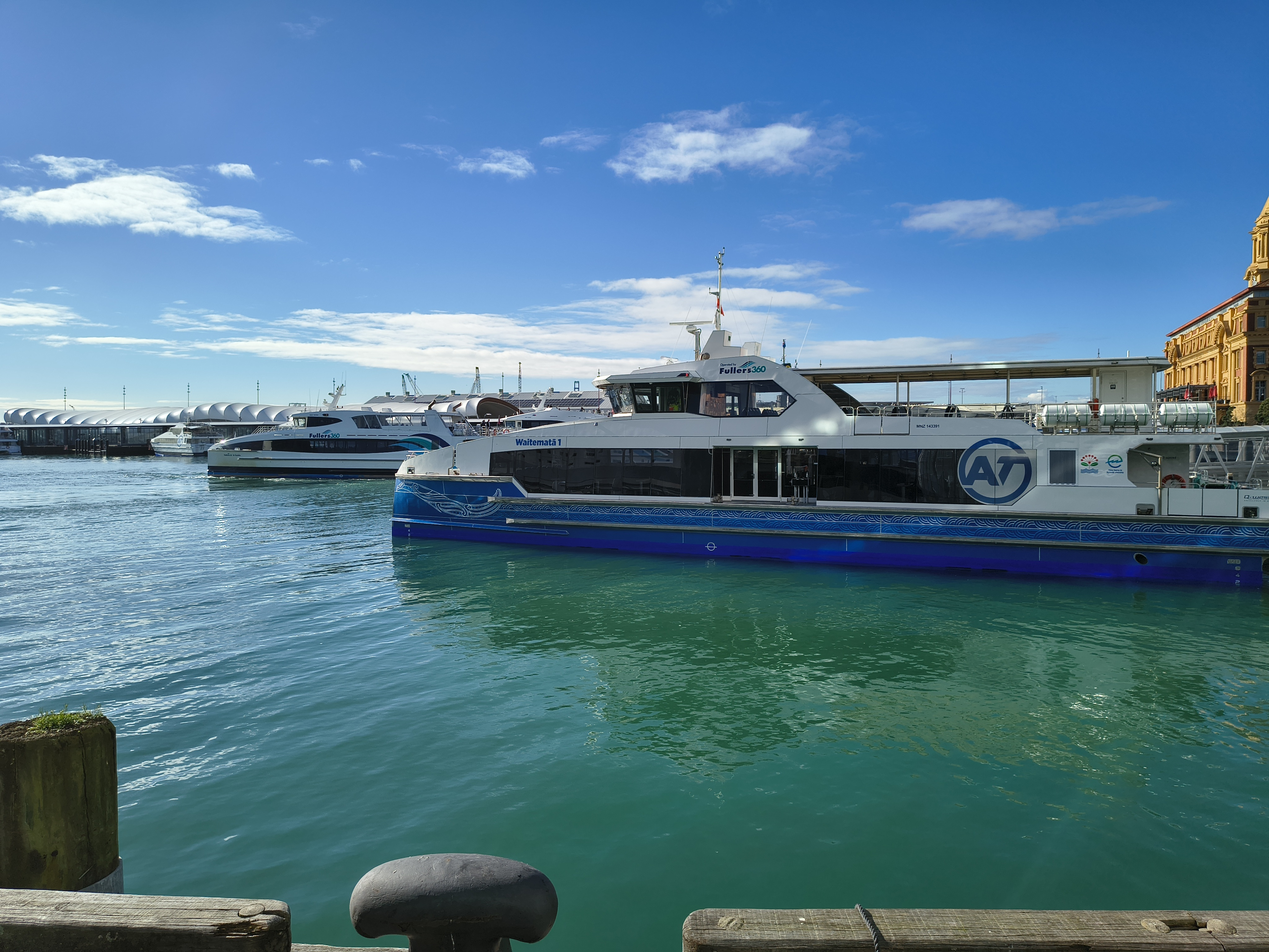ferry: (393, 331, 1269, 589), (205, 392, 473, 483), (147, 410, 222, 457)
